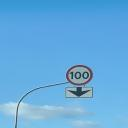speed_limit_100: (64, 63, 95, 87)
